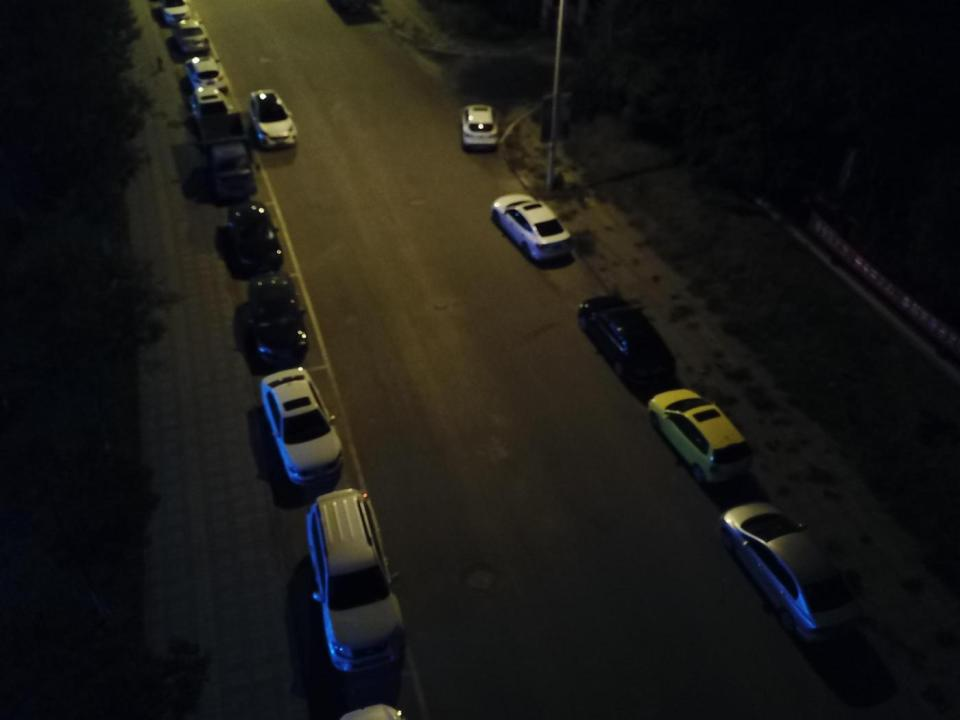car: (720, 501, 864, 643), (259, 367, 345, 487), (648, 388, 752, 484), (578, 295, 678, 384), (245, 272, 308, 367), (492, 194, 573, 260), (226, 202, 282, 270), (248, 88, 299, 149), (460, 103, 500, 148), (185, 55, 229, 94), (190, 87, 232, 127), (172, 19, 210, 52), (159, 0, 191, 25)
truck: (196, 112, 258, 200)
van: (305, 488, 407, 672)
